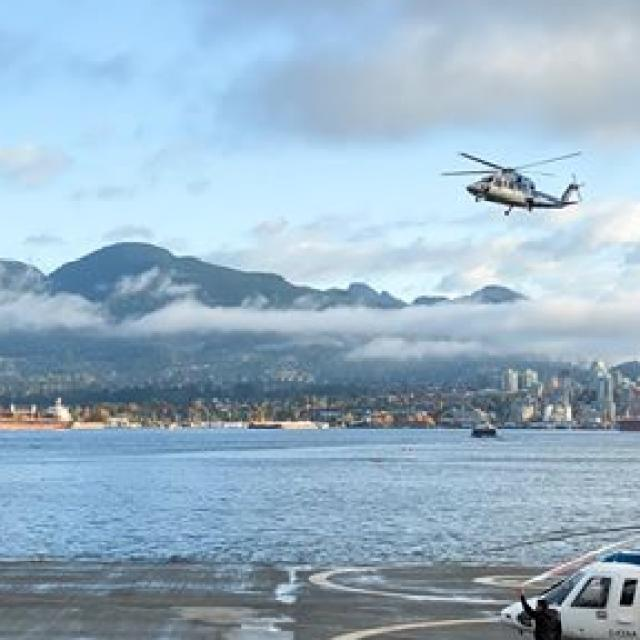helicopter: (430, 115, 608, 246), (505, 490, 640, 640)
